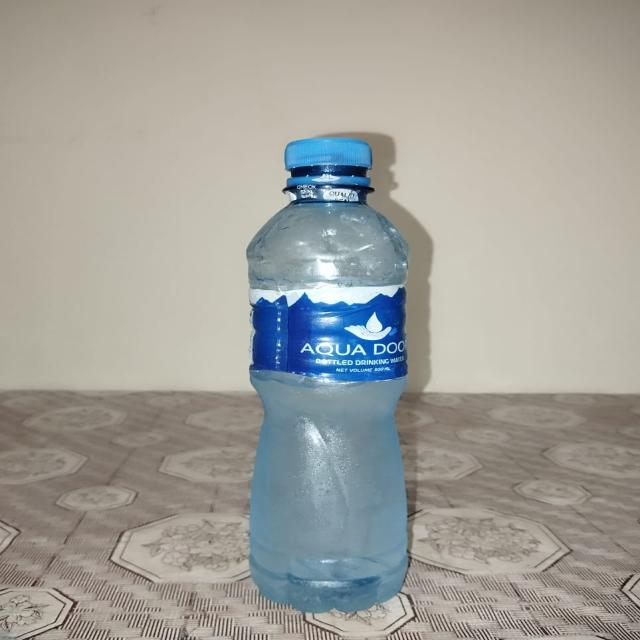bottle: (242, 140, 418, 618)
cap: (274, 142, 382, 188)
label: (242, 288, 415, 387)
